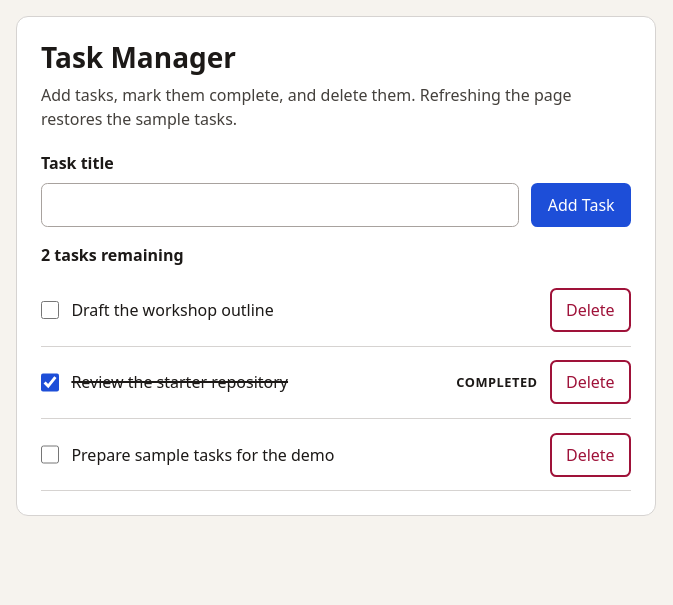
Test: Task Manager › adds a valid task, clears the input, and updates the remaining count
Step 1. Type "Ship the handout" into the field labelled "Task title" → {"x": 280, "y": 205}, box [41,183,519,227]
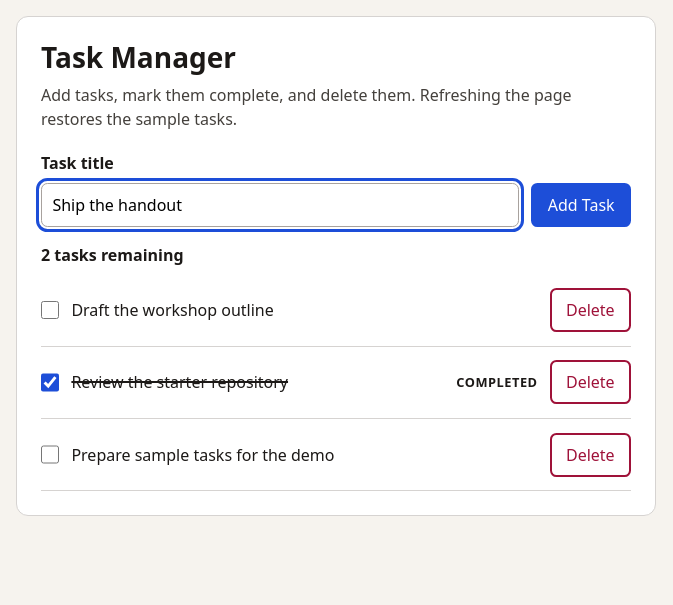
Step 2. Click the button "Add Task" → {"x": 581, "y": 205}, box [531,183,631,227]
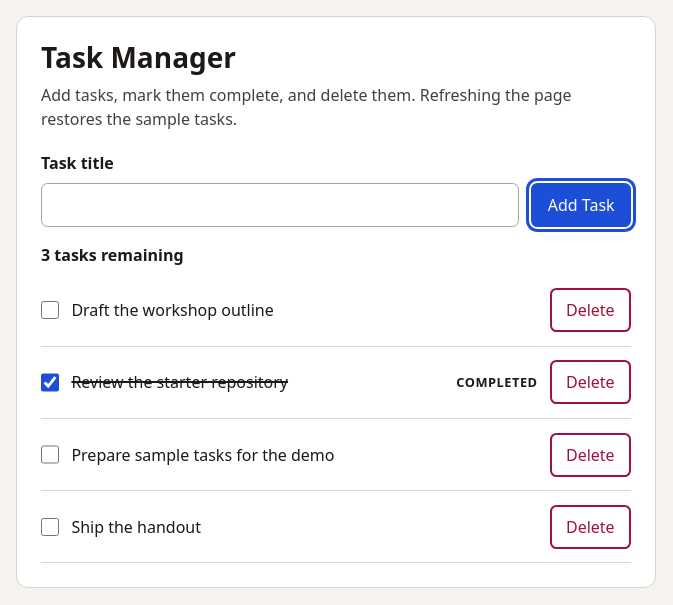
Result: the text "Ship the handout" is shown at [71,516,201,538]
Result: the field labelled "Task title" is empty at [41,183,519,227]
Result: the number of list items is 4 at [41,275,631,347]; [41,347,631,419]; [41,419,631,491]; [41,491,631,563]
